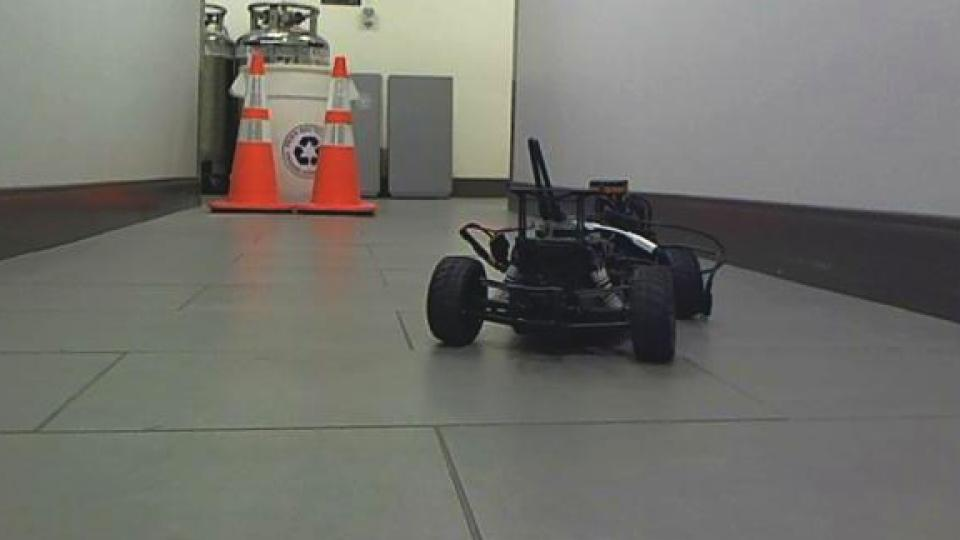car: (423, 135, 730, 367)
